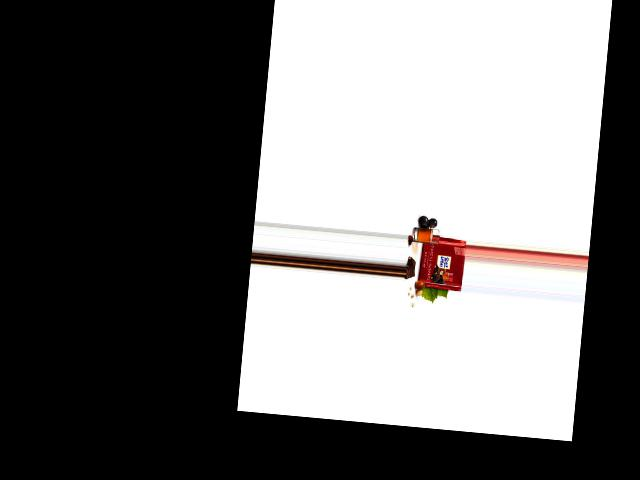chocolate: (417, 236, 465, 292)
